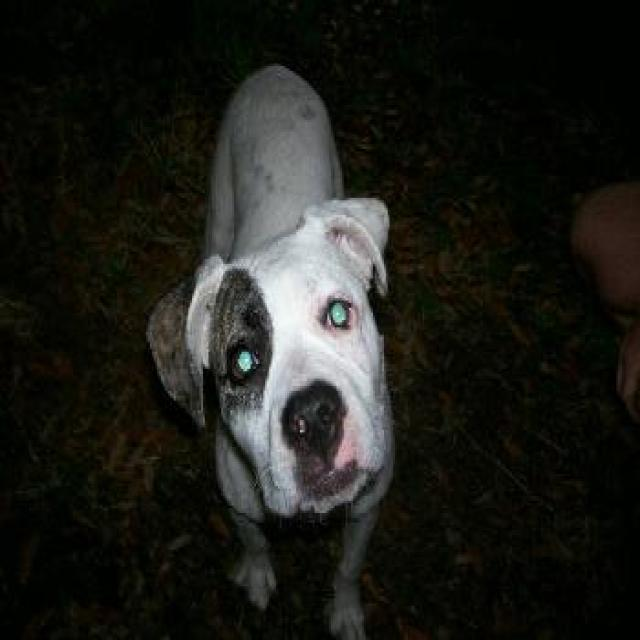Dogs: (144, 61, 397, 638)
